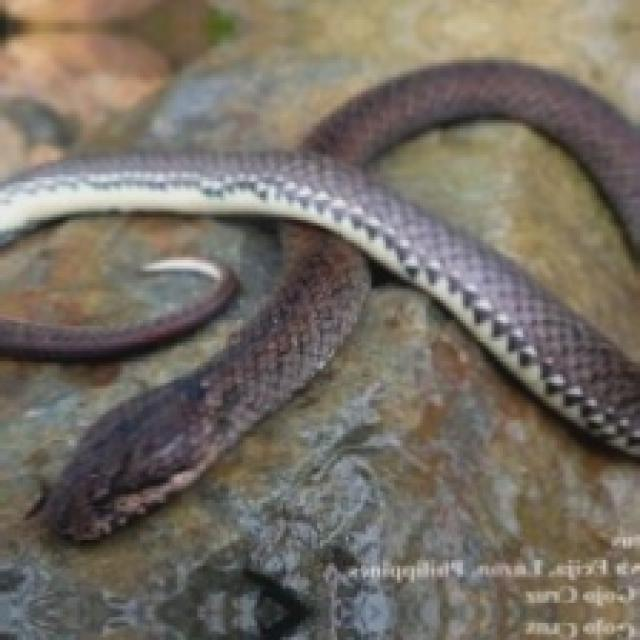reinhardts lined snake: (0, 63, 637, 537), (0, 258, 236, 359)
